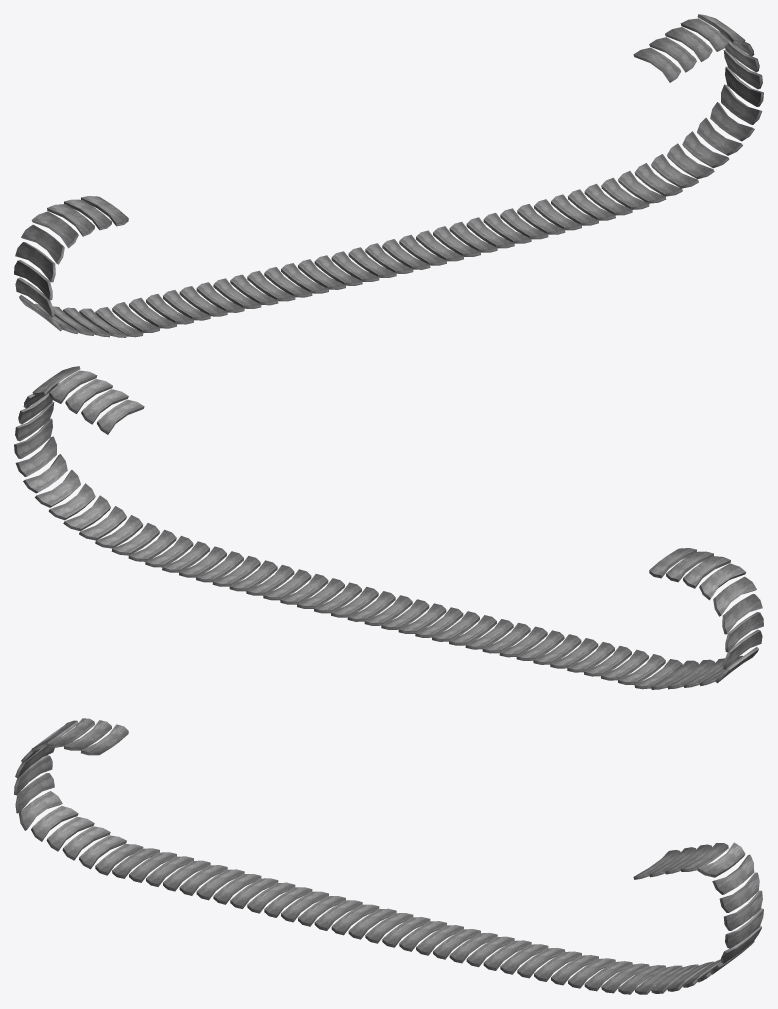
File: tread3.obj
The picture shows the model from 3 angles, top to bottom: view 1: azimuth 30°, elevation 25°; view 2: azimuth 150°, elevation 25°; view 3: azimuth 330°, elevation 25°; orthographic projection.
Size of the model in its own units: 4.01 by 0.8258 by 0.3462.
